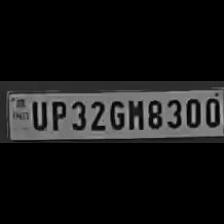0: (182, 96, 202, 128), (203, 95, 221, 127)
2: (88, 97, 106, 130)
3: (68, 97, 86, 130), (164, 96, 182, 128)
8: (144, 96, 164, 130)
G: (107, 97, 125, 130)
M: (126, 97, 144, 130)
P: (47, 97, 66, 130)
U: (28, 98, 48, 130)
